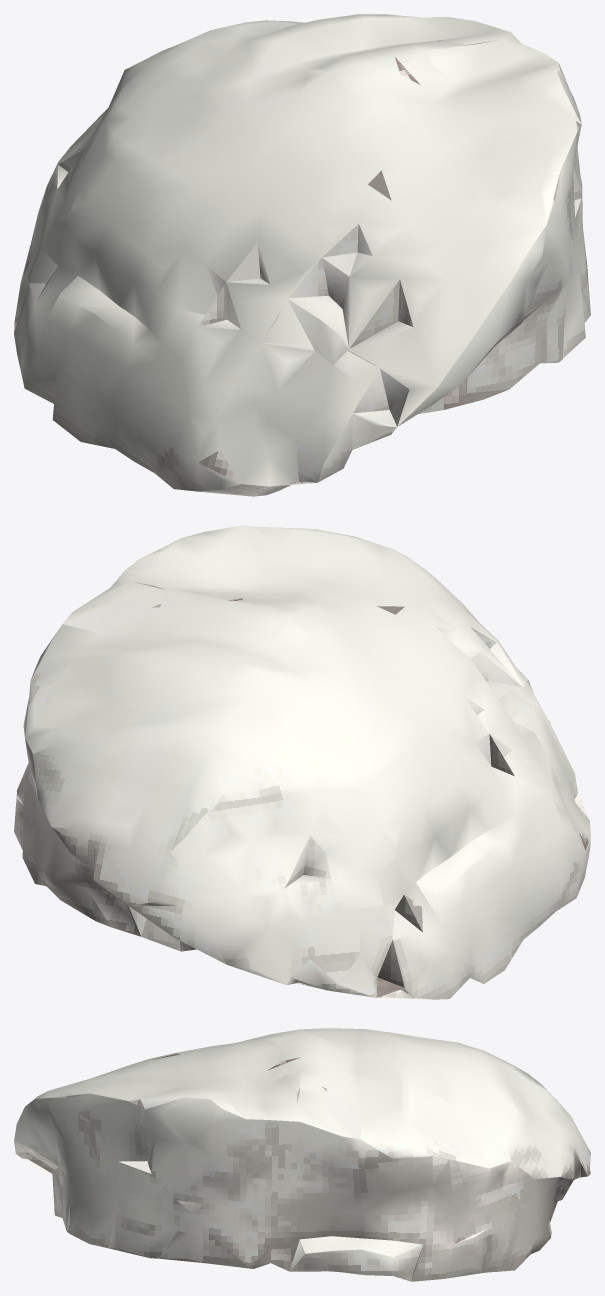
File: gg_wear_beret.glb
3 renders of one model, top to bottom at view 1: azimuth 30°, elevation 25°; view 2: azimuth 150°, elevation 25°; view 3: azimuth 270°, elevation 25°, orthographic. The views are drawn at different scales.
Visible parts, largest first — view 1: mesh; view 2: mesh; view 3: mesh.
Part boxes in pixels (x1,y1,x2,y2): mesh: (14, 14, 590, 496); mesh: (14, 525, 590, 999); mesh: (14, 1028, 590, 1281).
Bounding box in the file's own units: 0.1214 × 0.08 × 0.162.
1 material, 1 textured.
